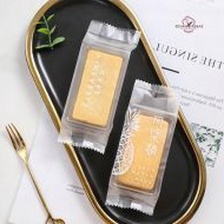snack: (52, 14, 145, 157), (100, 75, 187, 219)
